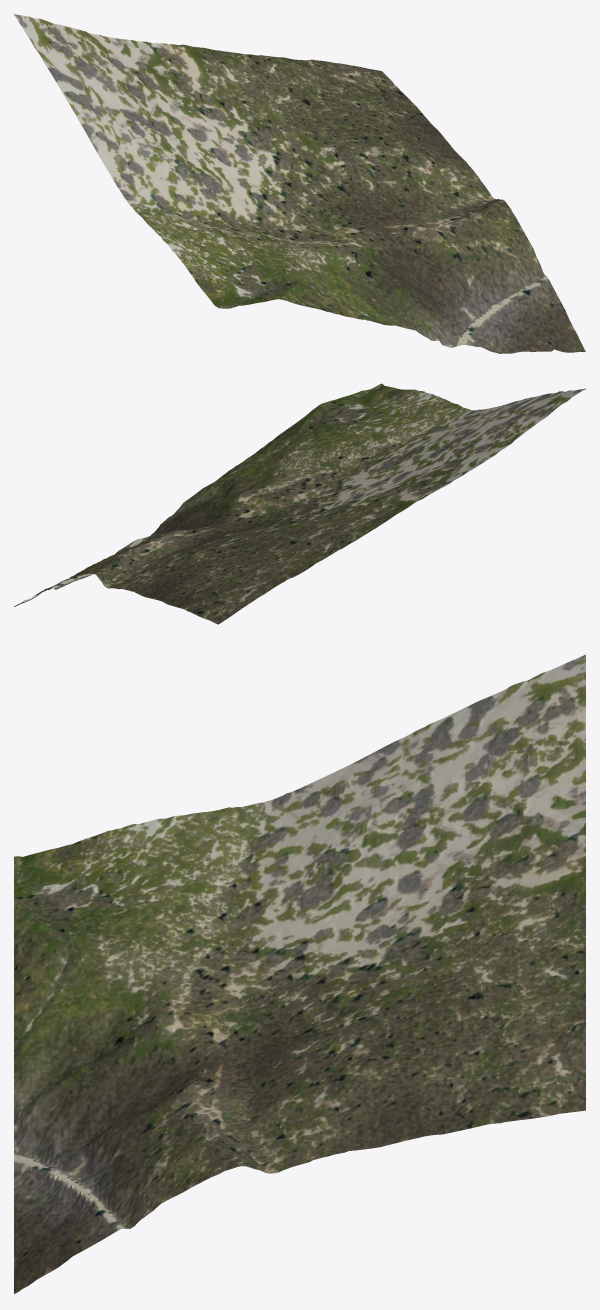
3 views of the same model, one above another, from view 1: azimuth 30°, elevation 25°; view 2: azimuth 210°, elevation 25°; view 3: azimuth 270°, elevation 25° (orthographic). The views are drawn at different scales.
Bounding box in the file's own units: 500 × 362 × 481.
1 material, 1 textured.
